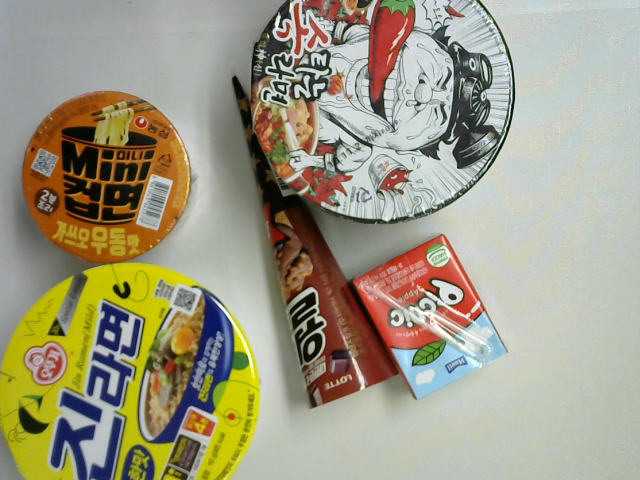HeJangsock: (244, 1, 522, 226)
Jinlamyeon_Mild_Taste_Large_Cup: (2, 258, 261, 480)
Picnic_Apple: (347, 228, 518, 406)
Udongmini: (21, 85, 204, 265)
World_Cone_Choco: (225, 66, 401, 415)
